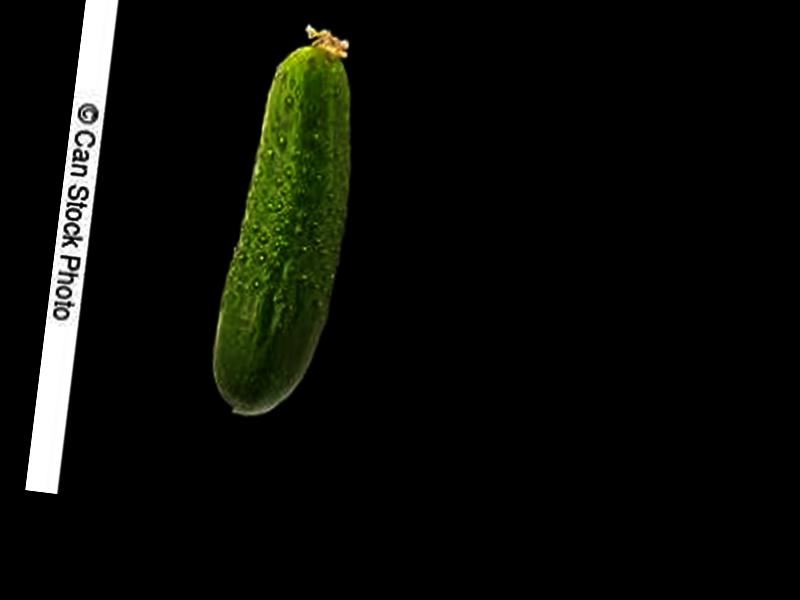Cucumber: (206, 17, 370, 425)
